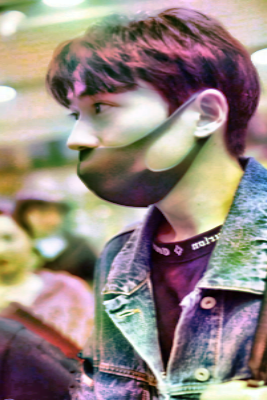mask_weared_incorrect: (66, 97, 197, 207)
